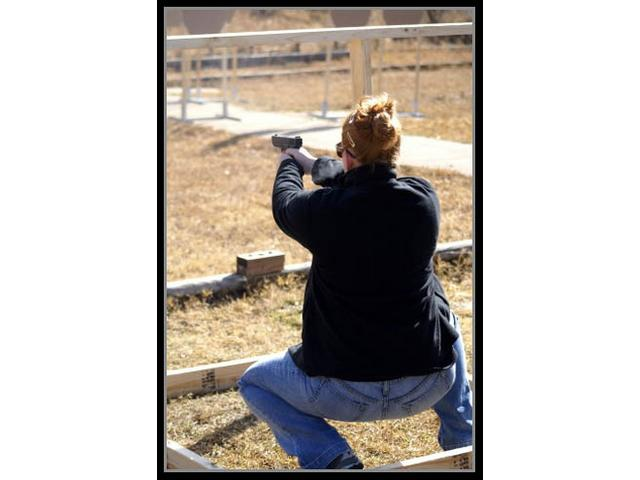pistol: (269, 134, 302, 186)
